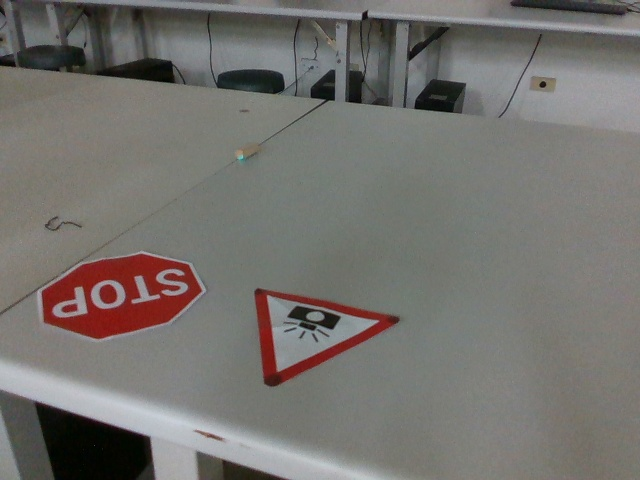camera: (252, 287, 403, 389)
stop: (36, 249, 206, 347)
